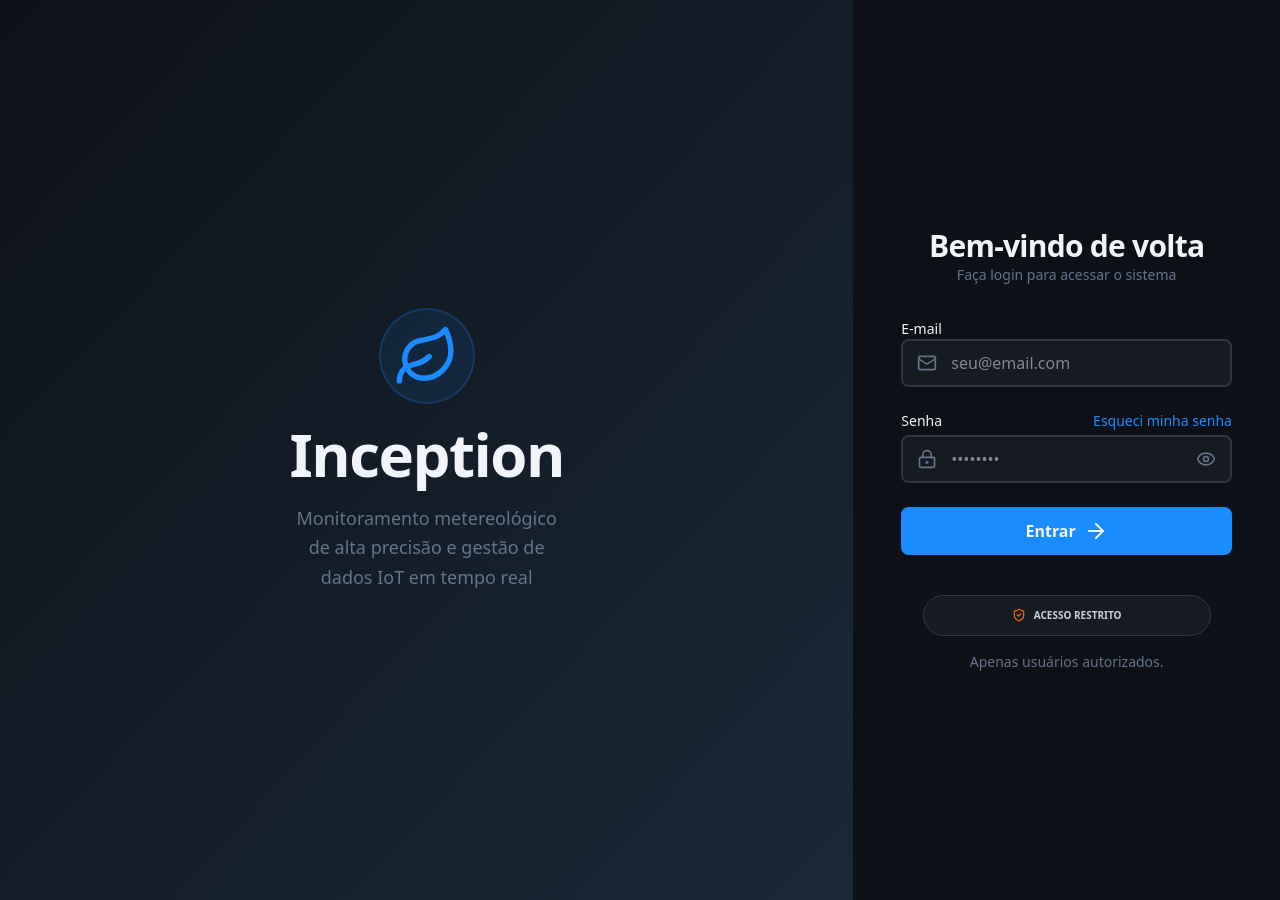
Página de Login › deve exibir erro se as credenciais forem inválidas
Type "errado@fatec.com" into the field with placeholder "seu@email.com". click: (1067, 363)
box: x1=901 y1=339 x2=1232 y2=387
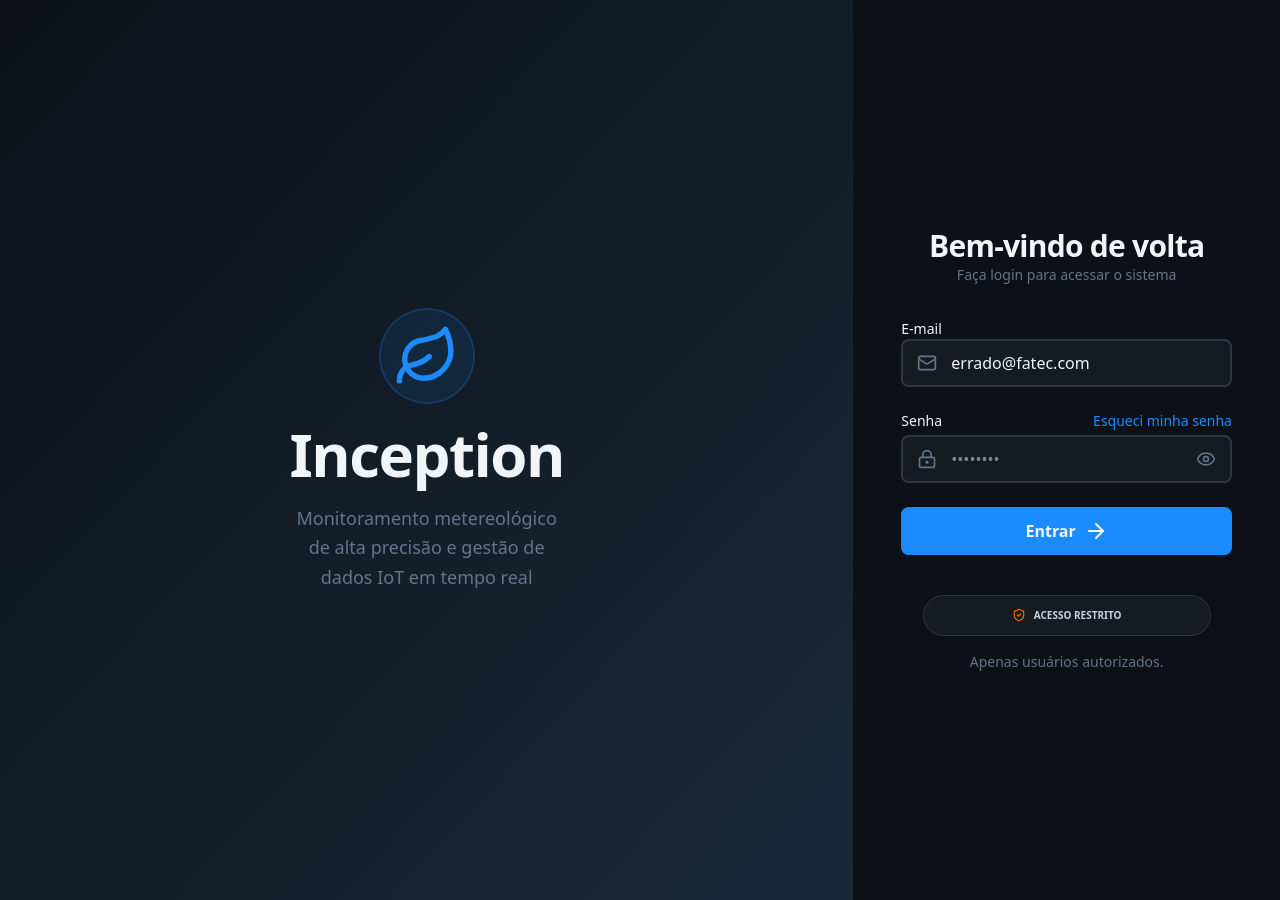
Type "123" into the password field with placeholder "••••••••". click: (1067, 459)
box: x1=901 y1=435 x2=1232 y2=483
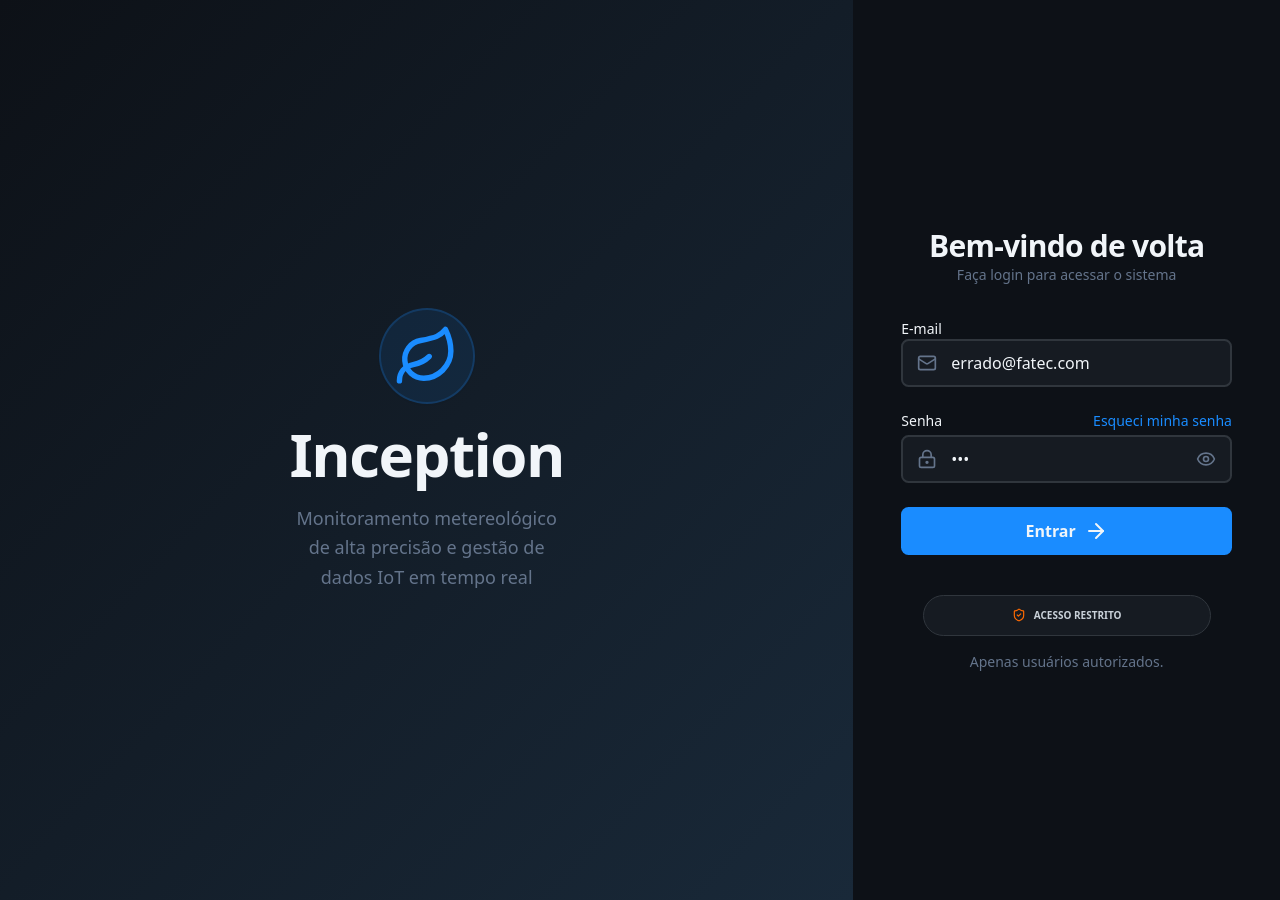
Click the button "Entrar". click: click(1067, 531)
box: x1=901 y1=507 x2=1232 y2=555
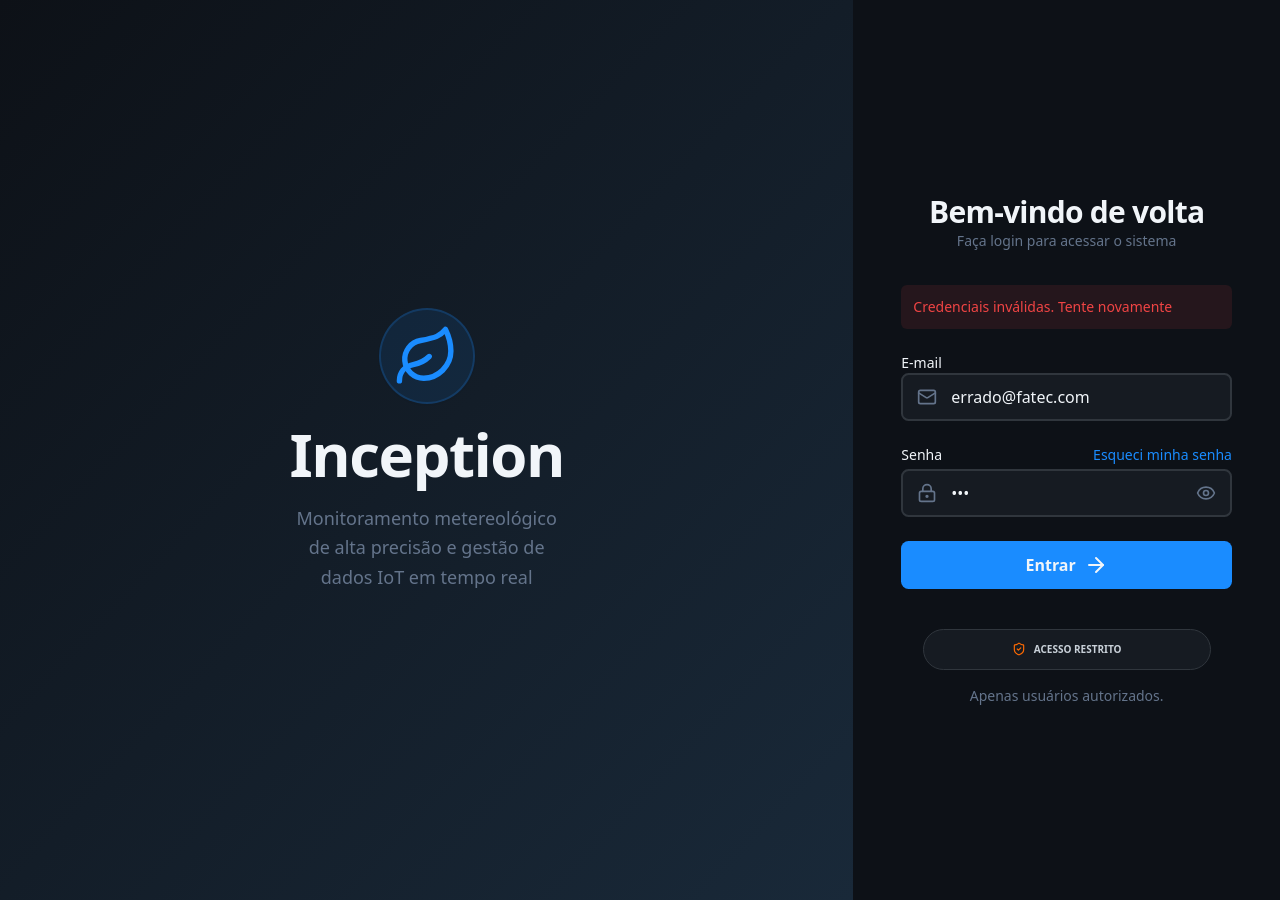
Check: the text "Credenciais inválidas. Tente novamente" is shown, box x1=901 y1=285 x2=1232 y2=329
